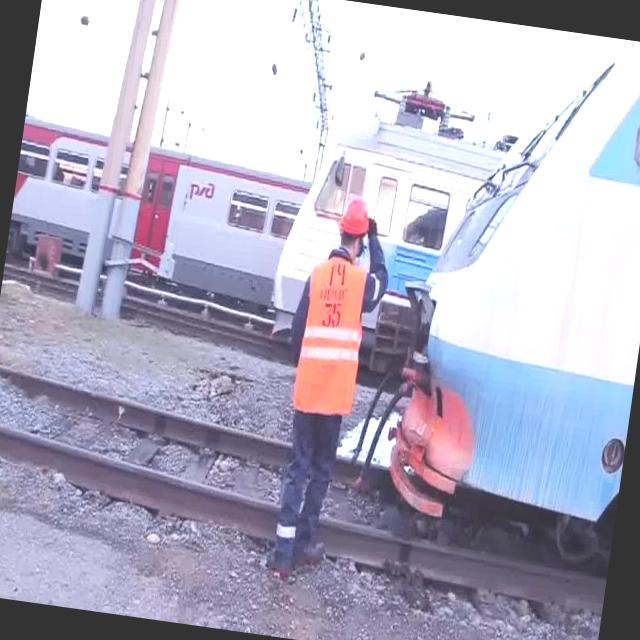boots: (258, 512, 310, 585)
helmet: (336, 196, 374, 238)
vest: (289, 253, 375, 424)
